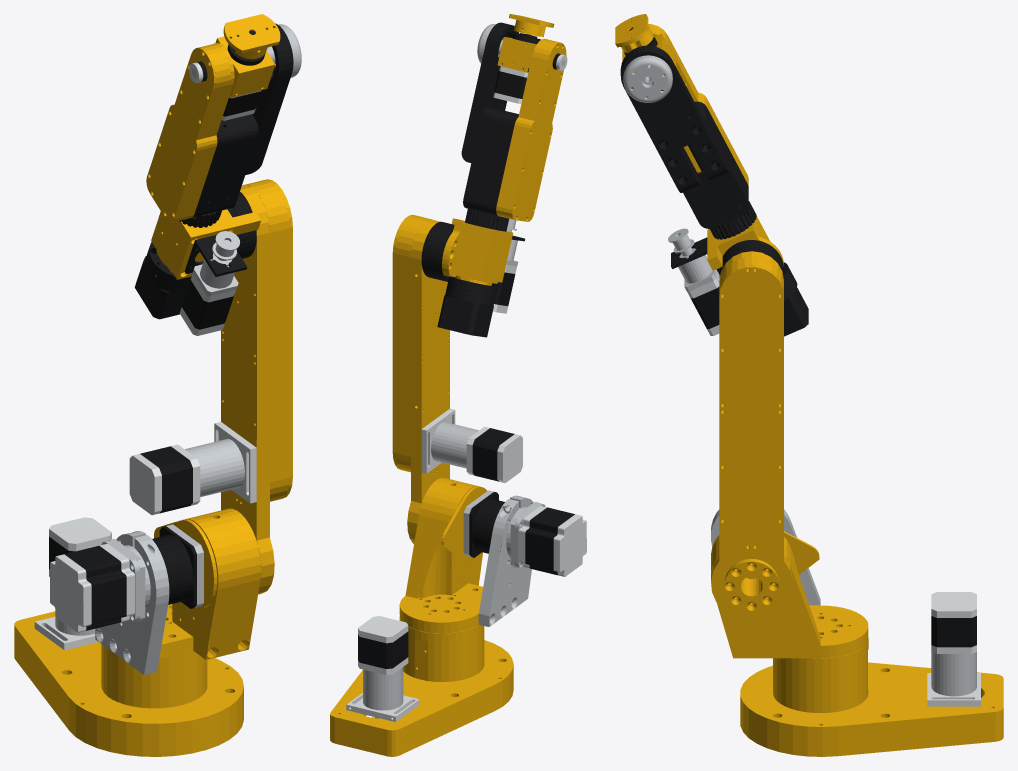
File: robot.glb
3 views of the same model, side by side, from view 1: azimuth 30°, elevation 25°; view 2: azimuth 150°, elevation 25°; view 3: azimuth 270°, elevation 25° (orthographic). The views are drawn at different scales.
Visible parts, largest first — view 1: link_2__pla_yellow, base_link__pla_yellow, link_4__hw_black, link_1__pla_yellow, link_4__pla_yellow, link_1__aluminum, link_1__motor_stack, link_2__steel, link_1__steel, link_3__pla_yellow, base_link__steel, link_2__aluminum (+10 smaller); view 2: link_2__pla_yellow, base_link__pla_yellow, link_4__hw_black, link_1__pla_yellow, link_4__pla_yellow, link_1__aluminum, link_3__pla_yellow, link_1__motor_stack, link_2__steel, base_link__steel, link_1__steel, base_link__aluminum (+10 smaller); view 3: link_2__pla_yellow, base_link__pla_yellow, link_4__hw_black, link_1__pla_yellow, base_link__steel, link_5__aluminum, base_link__aluminum, link_3__aluminum, base_link__motor_stack, link_4__pla_yellow, link_3__pla_yellow, link_6__pla_yellow (+3 smaller).
Part boxes in pixels (bbox=[...]): link_2__pla_yellow: bbox=[154, 179, 292, 608]; base_link__pla_yellow: bbox=[14, 611, 243, 756]; link_4__hw_black: bbox=[134, 23, 293, 319]; link_1__pla_yellow: bbox=[159, 508, 261, 659]; link_4__pla_yellow: bbox=[146, 43, 234, 222]; link_1__aluminum: bbox=[95, 524, 203, 674]; link_1__motor_stack: bbox=[64, 526, 196, 630]; link_2__steel: bbox=[129, 422, 256, 515]; link_1__steel: bbox=[50, 543, 134, 632]; link_3__pla_yellow: bbox=[151, 209, 260, 279]; base_link__steel: bbox=[34, 517, 111, 650]; link_2__aluminum: bbox=[185, 439, 244, 496]; link_2__pla_yellow: bbox=[392, 215, 487, 557]; base_link__pla_yellow: bbox=[330, 616, 513, 756]; link_4__hw_black: bbox=[437, 22, 518, 337]; link_1__pla_yellow: bbox=[399, 477, 483, 633]; link_4__pla_yellow: bbox=[496, 38, 566, 221]; link_1__aluminum: bbox=[463, 490, 545, 626]; link_3__pla_yellow: bbox=[442, 218, 512, 285]; link_1__motor_stack: bbox=[469, 491, 574, 575]; link_2__steel: bbox=[421, 408, 522, 482]; base_link__steel: bbox=[346, 616, 419, 721]; link_1__steel: bbox=[519, 506, 586, 576]; base_link__aluminum: bbox=[363, 667, 403, 718]; link_2__pla_yellow: bbox=[711, 251, 819, 620]; base_link__pla_yellow: bbox=[740, 638, 1003, 756]; link_4__hw_black: bbox=[620, 45, 808, 336]; link_1__pla_yellow: bbox=[711, 537, 868, 658]; base_link__steel: bbox=[927, 592, 980, 706]; link_5__aluminum: bbox=[623, 55, 672, 102]; base_link__aluminum: bbox=[931, 652, 976, 696]; link_3__aluminum: bbox=[668, 228, 716, 291]; base_link__motor_stack: bbox=[931, 616, 976, 647]; link_4__pla_yellow: bbox=[648, 24, 748, 185]; link_3__pla_yellow: bbox=[707, 216, 783, 270]; link_6__pla_yellow: bbox=[615, 14, 653, 52].
Size of the model in its own units: 0.2019 by 0.7153 by 0.361.
